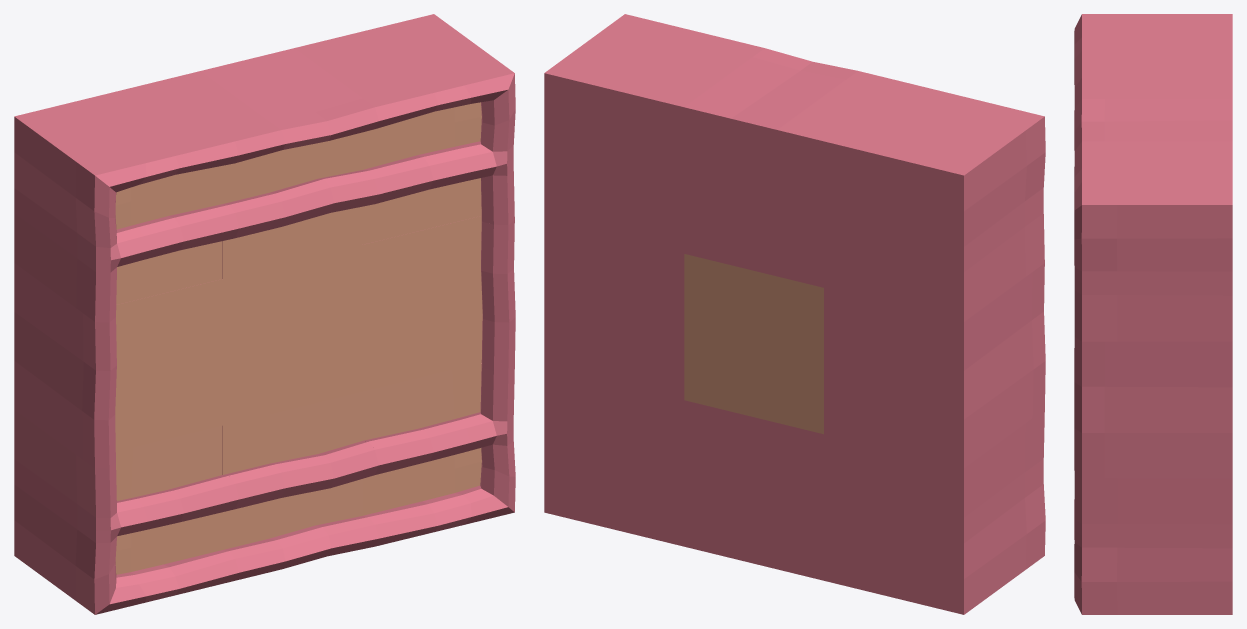
The model's file is Modelado_Suelo_Tiles_Pastel_001.glb.
3 views of the same model, side by side, from view 1: azimuth 30°, elevation 25°; view 2: azimuth 150°, elevation 25°; view 3: azimuth 270°, elevation 25° (orthographic). The views are drawn at different scales.
Parts seen in each view (by area): view 1: Mesh_Suelo_Tile_Esquina_001, Mesh_Suelo_Tile_Esquina_004, Mesh_Suelo_Tile_Esquina_002, Mesh_Suelo_Tile_Lateral_001, Mesh_Suelo_Tile_Medio_001, Mesh_Suelo_Tile_Esquina_003, Mesh_Suelo_Tile_Lateral_002, Mesh_Suelo_Tile_Medio_002, Mesh_Suelo_Tile_Centro_001; view 2: Mesh_Suelo_Tile_Esquina_001, Mesh_Suelo_Tile_Lateral_001, Mesh_Suelo_Tile_Esquina_004, Mesh_Suelo_Tile_Esquina_002, Mesh_Suelo_Tile_Medio_001, Mesh_Suelo_Tile_Esquina_003, Mesh_Suelo_Tile_Lateral_002, Mesh_Suelo_Tile_Centro_001, Mesh_Suelo_Tile_Medio_002; view 3: Mesh_Suelo_Tile_Esquina_002, Mesh_Suelo_Tile_Lateral_002, Mesh_Suelo_Tile_Esquina_003, Mesh_Suelo_Tile_Medio_001, Mesh_Suelo_Tile_Esquina_001.
Part boxes in pixels (bbox=[...]): Mesh_Suelo_Tile_Esquina_001: bbox=[14, 82, 238, 322]; Mesh_Suelo_Tile_Esquina_004: bbox=[14, 409, 238, 614]; Mesh_Suelo_Tile_Esquina_002: bbox=[294, 14, 515, 244]; Mesh_Suelo_Tile_Lateral_001: bbox=[14, 263, 222, 468]; Mesh_Suelo_Tile_Medio_001: bbox=[154, 48, 378, 278]; Mesh_Suelo_Tile_Esquina_003: bbox=[362, 362, 515, 546]; Mesh_Suelo_Tile_Lateral_002: bbox=[362, 216, 515, 391]; Mesh_Suelo_Tile_Medio_002: bbox=[222, 391, 378, 580]; Mesh_Suelo_Tile_Centro_001: bbox=[223, 245, 362, 425]; Mesh_Suelo_Tile_Esquina_001: bbox=[824, 82, 1045, 321]; Mesh_Suelo_Tile_Lateral_001: bbox=[824, 263, 1045, 468]; Mesh_Suelo_Tile_Esquina_004: bbox=[824, 409, 1045, 614]; Mesh_Suelo_Tile_Esquina_002: bbox=[544, 14, 764, 253]; Mesh_Suelo_Tile_Medio_001: bbox=[684, 48, 904, 287]; Mesh_Suelo_Tile_Esquina_003: bbox=[544, 366, 684, 546]; Mesh_Suelo_Tile_Lateral_002: bbox=[544, 219, 684, 399]; Mesh_Suelo_Tile_Centro_001: bbox=[684, 254, 823, 434]; Mesh_Suelo_Tile_Medio_002: bbox=[684, 400, 823, 580]; Mesh_Suelo_Tile_Esquina_002: bbox=[1074, 141, 1232, 341]; Mesh_Suelo_Tile_Lateral_002: bbox=[1074, 337, 1232, 478]; Mesh_Suelo_Tile_Esquina_003: bbox=[1074, 474, 1232, 614]; Mesh_Suelo_Tile_Medio_001: bbox=[1074, 77, 1232, 211]; Mesh_Suelo_Tile_Esquina_001: bbox=[1074, 14, 1232, 87].
Bounding box in the file's own units: 6.02 × 6 × 2.1.
